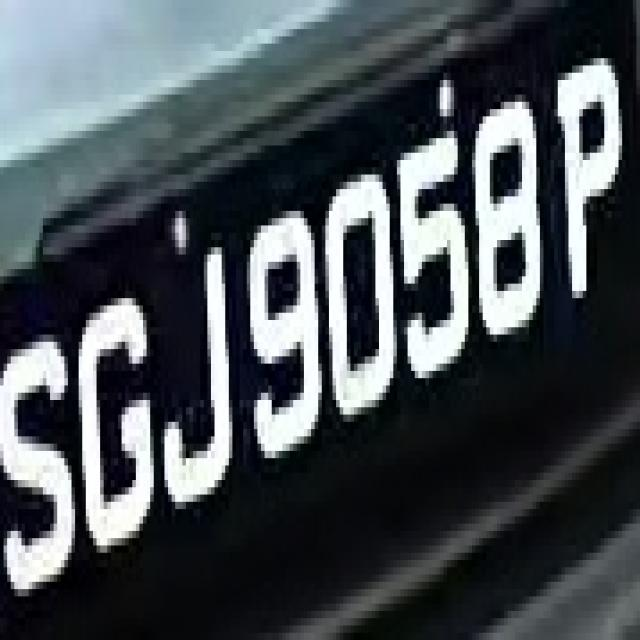0: (318, 160, 401, 436)
5: (393, 131, 472, 393)
8: (472, 72, 558, 364)
9: (240, 182, 322, 494)
G: (75, 284, 165, 574)
J: (154, 196, 243, 524)
P: (544, 44, 630, 298)
S: (11, 320, 68, 633)
